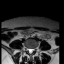CCS_normal: (29, 46, 31, 56)
LFS_normal: (33, 45, 35, 53)
LLS_normal: (31, 46, 33, 54)
RFS_normal: (25, 44, 27, 53)
RLS_normal: (27, 46, 29, 54)
